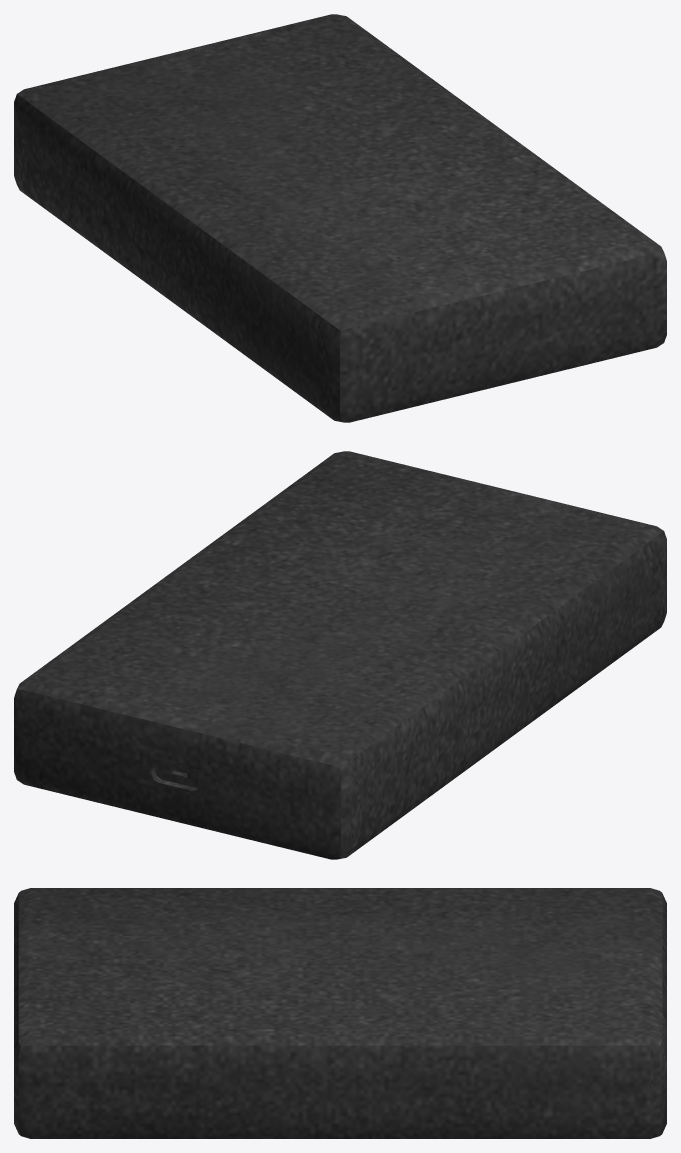
The model's file is PowerBank.fbx.
3 views of the same model, one above another, from view 1: azimuth 30°, elevation 25°; view 2: azimuth 150°, elevation 25°; view 3: azimuth 270°, elevation 25° (orthographic).
Parts seen in each view (by area): view 1: Cube; view 2: Cube; view 3: Cube.
Part boxes in pixels (box(x1,y1,x2,y2)): Cube: box(14, 14, 666, 422); Cube: box(14, 451, 666, 859); Cube: box(14, 888, 666, 1138).
Size of the model in its own units: 29.24 by 8.6 by 50.
1 material, 1 textured.
